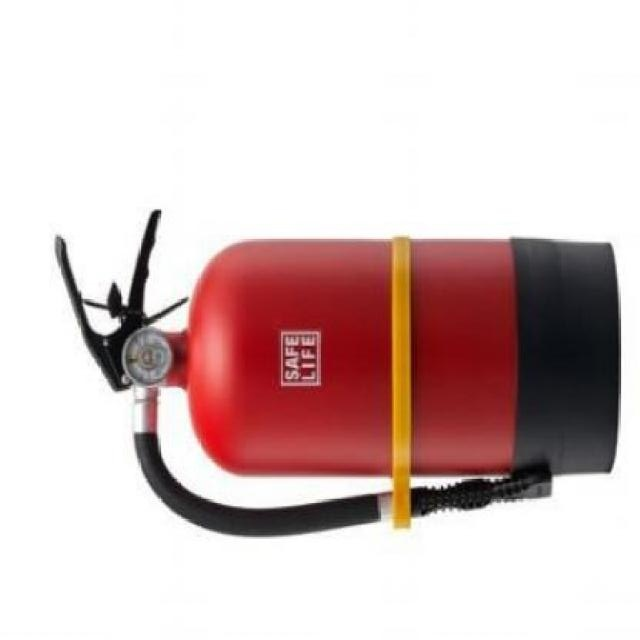fire extinguisher: (53, 208, 621, 540)
